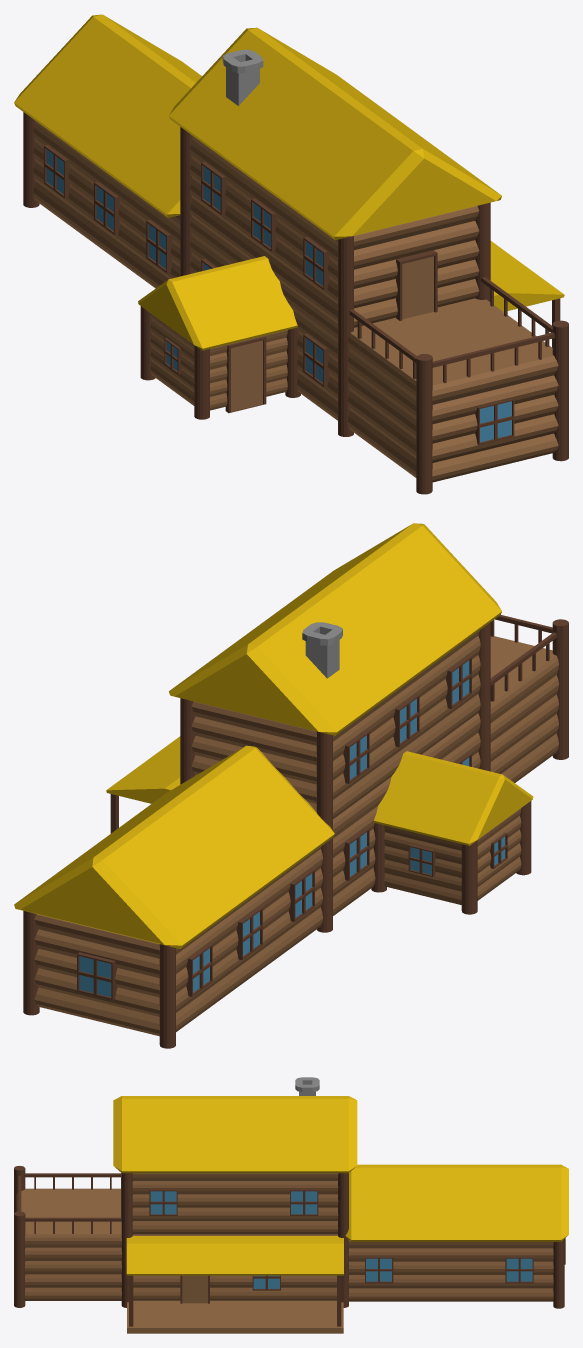
File: Cottage.dae
3 views of the same model, one above another, from view 1: azimuth 30°, elevation 25°; view 2: azimuth 150°, elevation 25°; view 3: azimuth 270°, elevation 25° (orthographic). The views are drawn at different scales.
Parts seen in each view (by area): view 1: Cube; view 2: Cube; view 3: Cube.
Part boxes in pixels (box(x1,y1,x2,y2)): Cube: box(14, 14, 568, 494); Cube: box(14, 523, 568, 1048); Cube: box(14, 1077, 568, 1333).
Size of the model in its own units: 4.71 by 10.27 by 3.83.
Materials: 1 (1 with a texture image).
